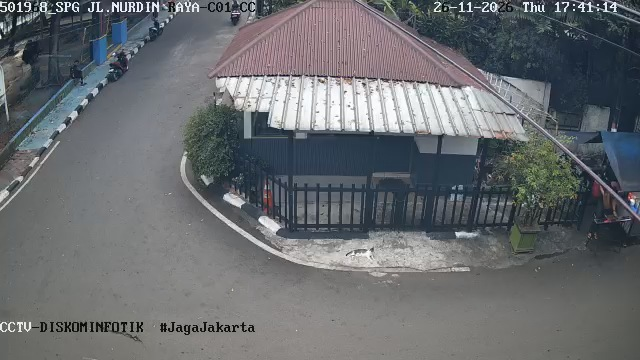Gerobak: (581, 129, 640, 242)
